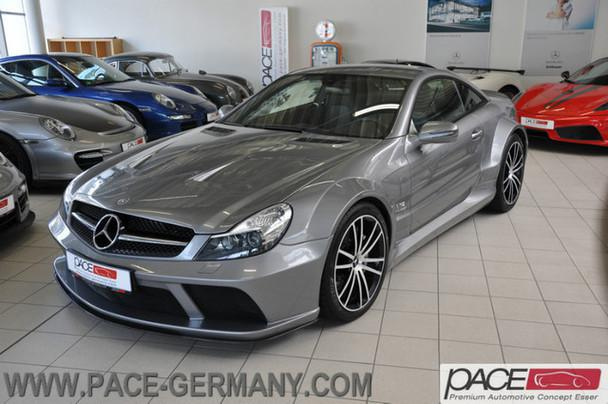Car: (38, 43, 548, 351), (1, 47, 227, 161), (1, 61, 169, 189), (513, 42, 608, 166)
